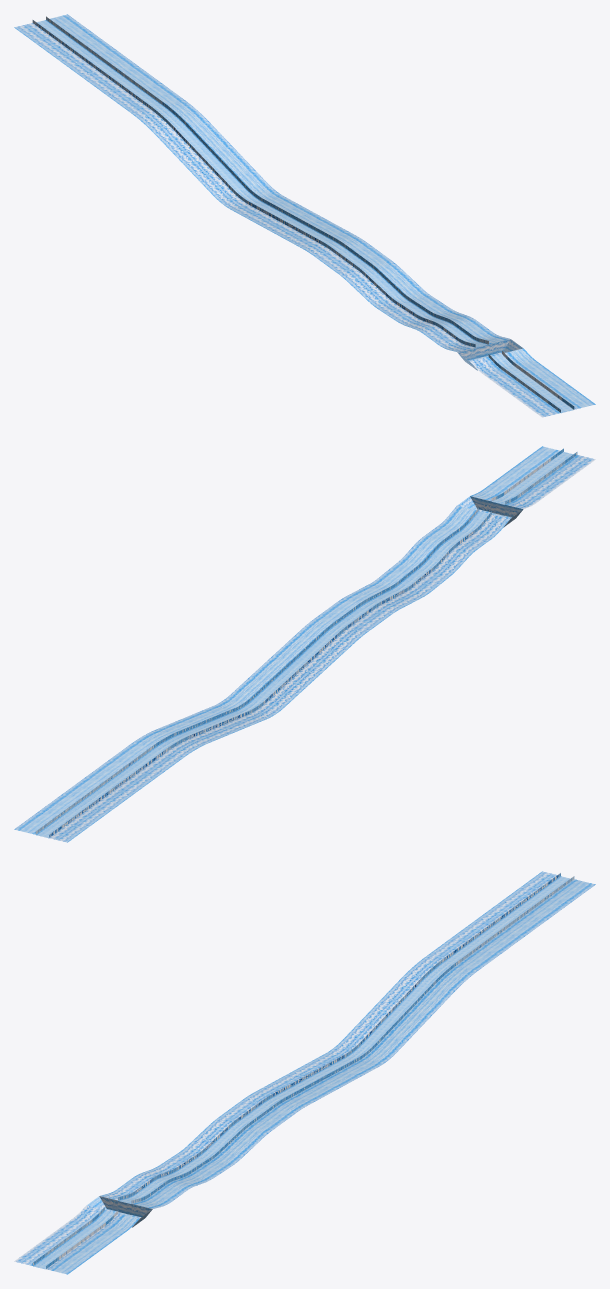
File: snow track2_1.fbx
3 views of the same model, one above another, from view 1: azimuth 30°, elevation 25°; view 2: azimuth 150°, elevation 25°; view 3: azimuth 330°, elevation 25° (orthographic).
Parts seen in each view (by area): view 1: Plane.004, way.002, Plane.007, Plane.005; view 2: Plane.004, way.002, Plane.005, Plane.007; view 3: Plane.004, way.002, Plane.005, Plane.007.
Boxes of the visible parts, box(x1,y1,x2,y2) form: Plane.004: box(14, 14, 595, 417); way.002: box(37, 20, 573, 413); Plane.007: box(32, 20, 560, 412); Plane.005: box(46, 16, 574, 409); Plane.004: box(14, 446, 595, 842); way.002: box(36, 452, 573, 838); Plane.005: box(35, 448, 563, 834); Plane.007: box(49, 452, 577, 837); Plane.004: box(14, 871, 595, 1274); way.002: box(33, 876, 570, 1269); Plane.005: box(46, 876, 574, 1268); Plane.007: box(32, 873, 560, 1265).
Bounding box in the file's own units: 1142 × 560 × 19439.
Materials: 1 (1 with a texture image).
